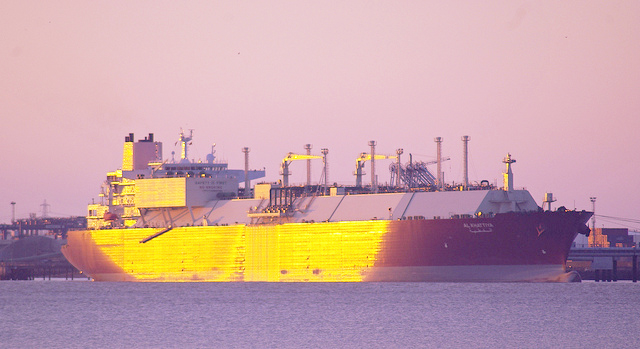LNG_ship: (65, 129, 594, 279)
